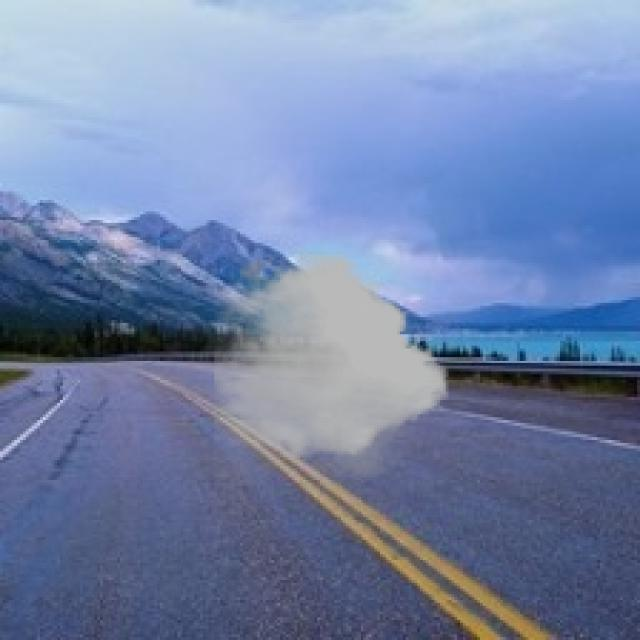Smoke: (214, 248, 449, 486)
